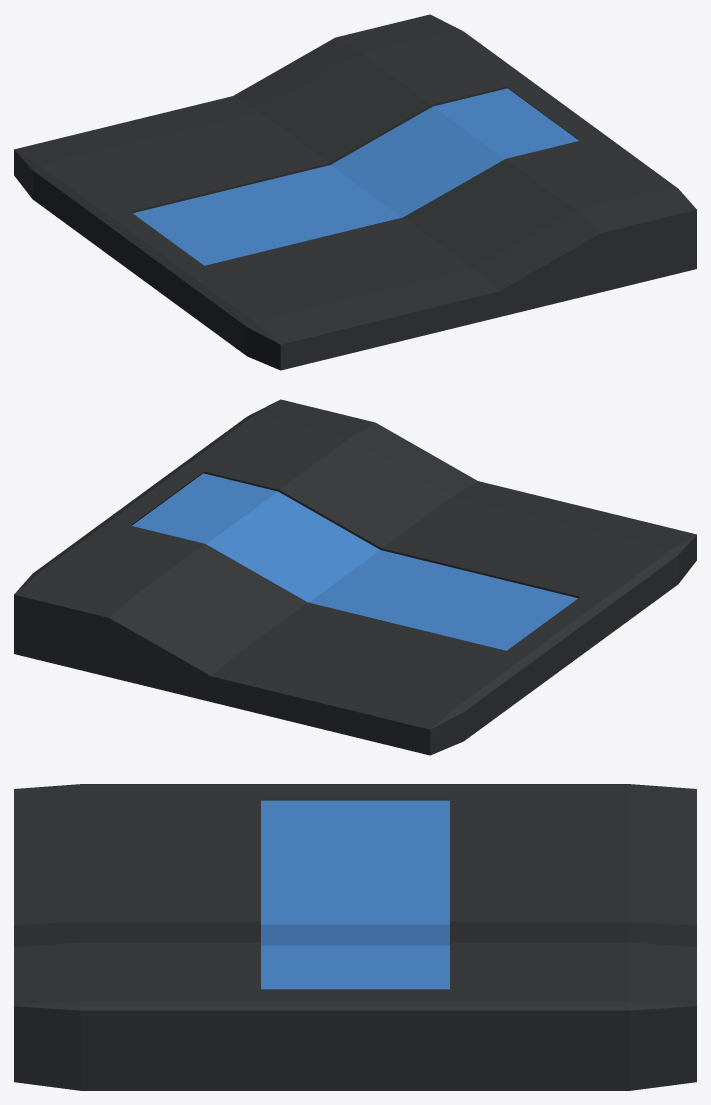
File: Ramp.fbx
3 views of the same model, one above another, from view 1: azimuth 30°, elevation 25°; view 2: azimuth 150°, elevation 25°; view 3: azimuth 270°, elevation 25° (orthographic). The views are drawn at different scales.
Visible parts, largest first — view 1: Cube.157; view 2: Cube.157; view 3: Cube.157.
Boxes of the visible parts, x1,y1,x2,y2 form: Cube.157: [14, 14, 696, 370]; Cube.157: [14, 399, 696, 755]; Cube.157: [14, 784, 696, 1090].
Bounding box in the file's own units: 548 × 80.03 × 588.
